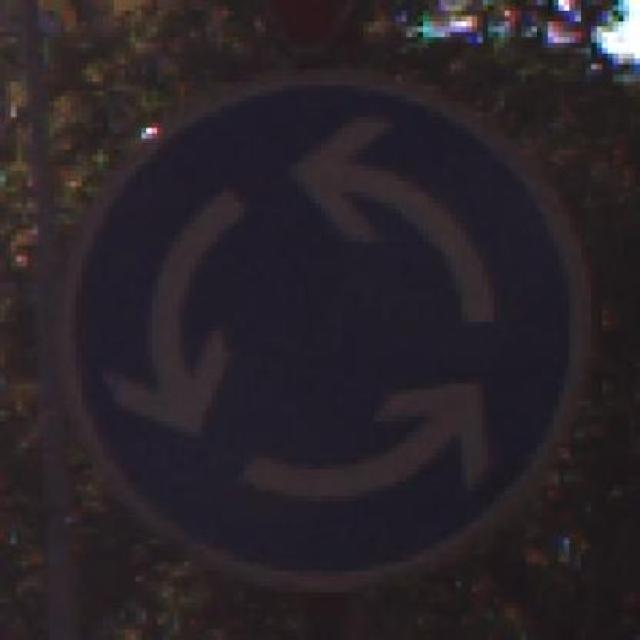Round-About: (21, 32, 613, 603)
